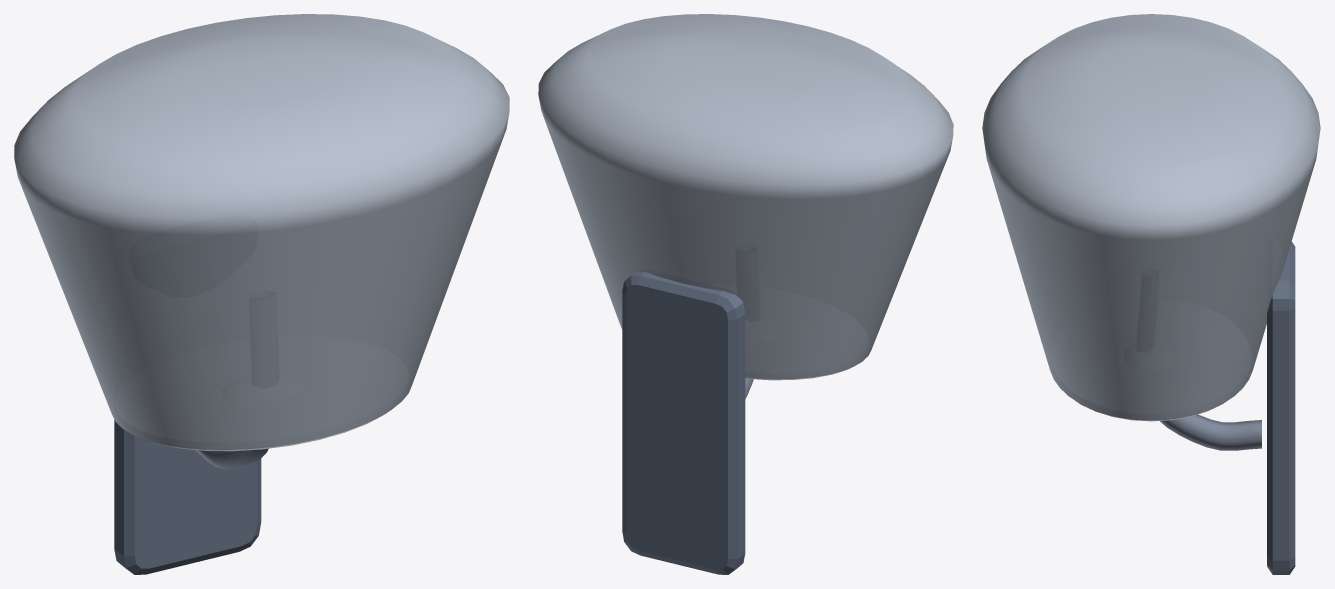
File: 壁灯-lite.glb
The picture shows the model from 3 angles, left to right: view 1: azimuth 30°, elevation 25°; view 2: azimuth 150°, elevation 25°; view 3: azimuth 270°, elevation 25°; orthographic projection. The views are drawn at different scales.
Parts seen in each view (by area): view 1: soft, dark, accent; view 2: soft, dark; view 3: soft, dark, accent.
Boxes of the visible parts, x1,y1,x2,y2 form: soft: (14,14,509,449); dark: (114,420,261,574); accent: (195,448,268,468); soft: (538,14,953,379); dark: (622,271,745,574); soft: (982,14,1320,420); dark: (1267,241,1295,574); accent: (1160,414,1261,450).
Size of the model in its own units: 0.3 by 0.34 by 0.22.
